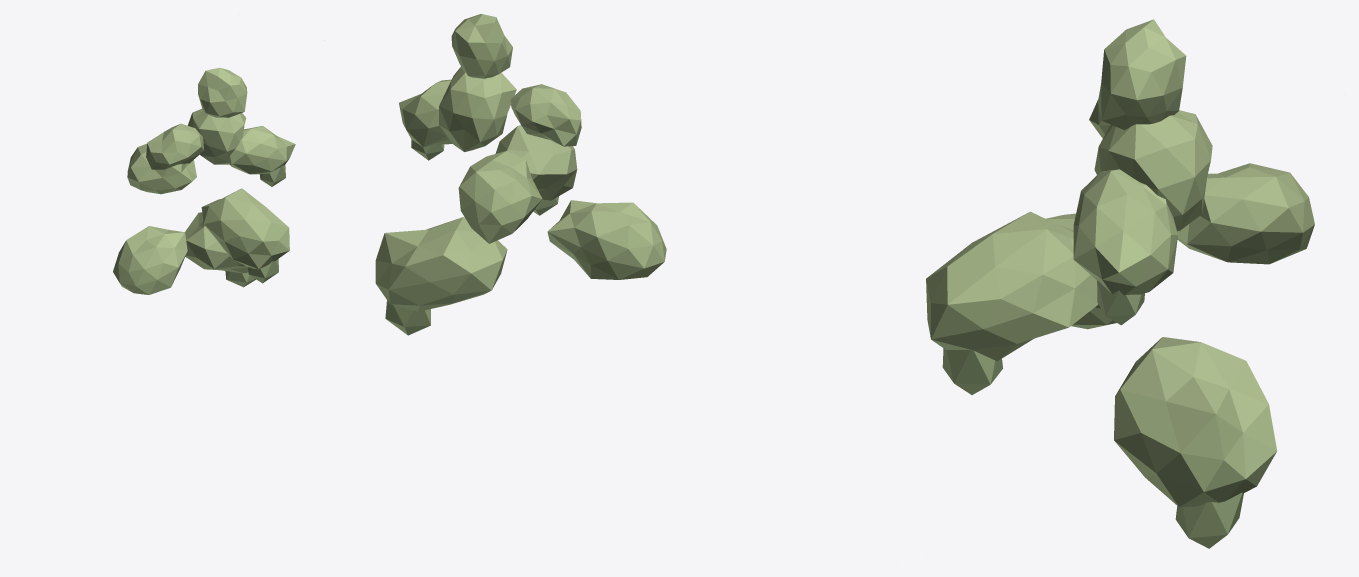
The model's file is BirchLean1_leaf.glb.
3 renders of one model, left to right at view 1: azimuth 30°, elevation 25°; view 2: azimuth 150°, elevation 25°; view 3: azimuth 270°, elevation 25°, orthographic. The views are drawn at different scales.
Parts seen in each view (by area): view 1: BirchLean1_leaf; view 2: BirchLean1_leaf; view 3: BirchLean1_leaf.
Part boxes in pixels (x1,y1,x2,y2): BirchLean1_leaf: (113,67,295,294); BirchLean1_leaf: (324,14,666,335); BirchLean1_leaf: (926,19,1314,548).
Size of the model in its own units: 15.59 by 17.72 by 8.58.
